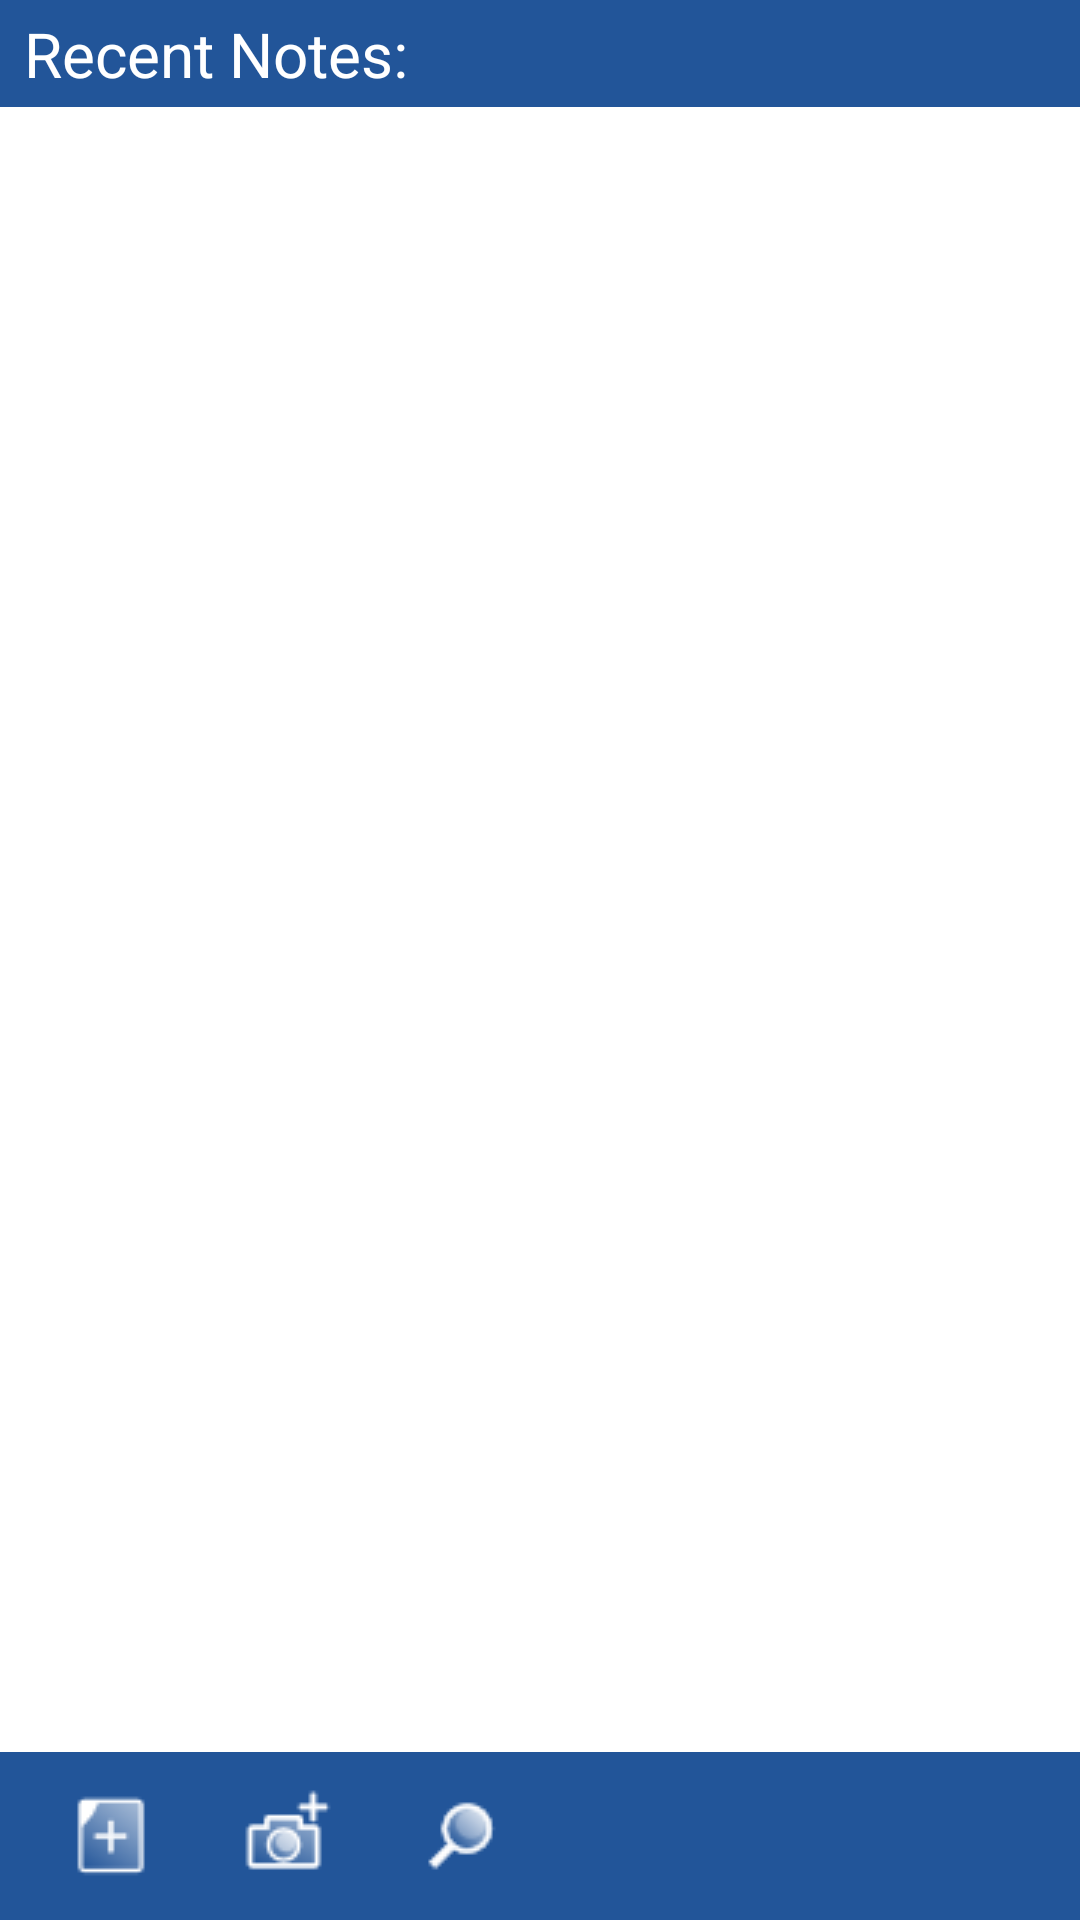

Locate icon controls on the screen. Image size 1080 × 1920, boxes as [left=x1, top=y1, right=x2, bottom=y2].
photo: [left=245, top=1790, right=330, bottom=1870]
search: [left=428, top=1802, right=494, bottom=1870]
